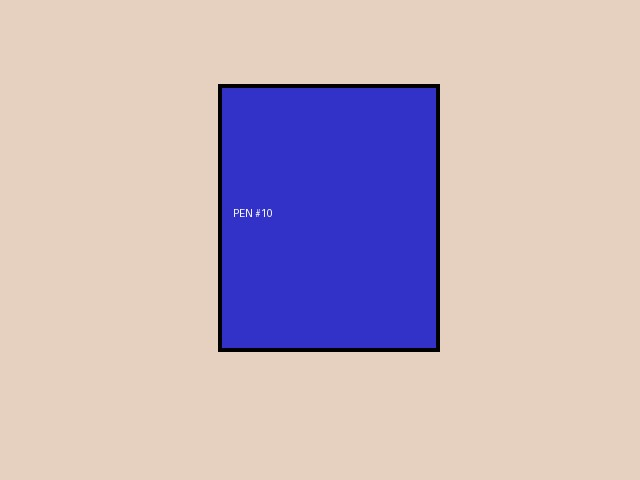pen: (218, 84, 439, 351)
